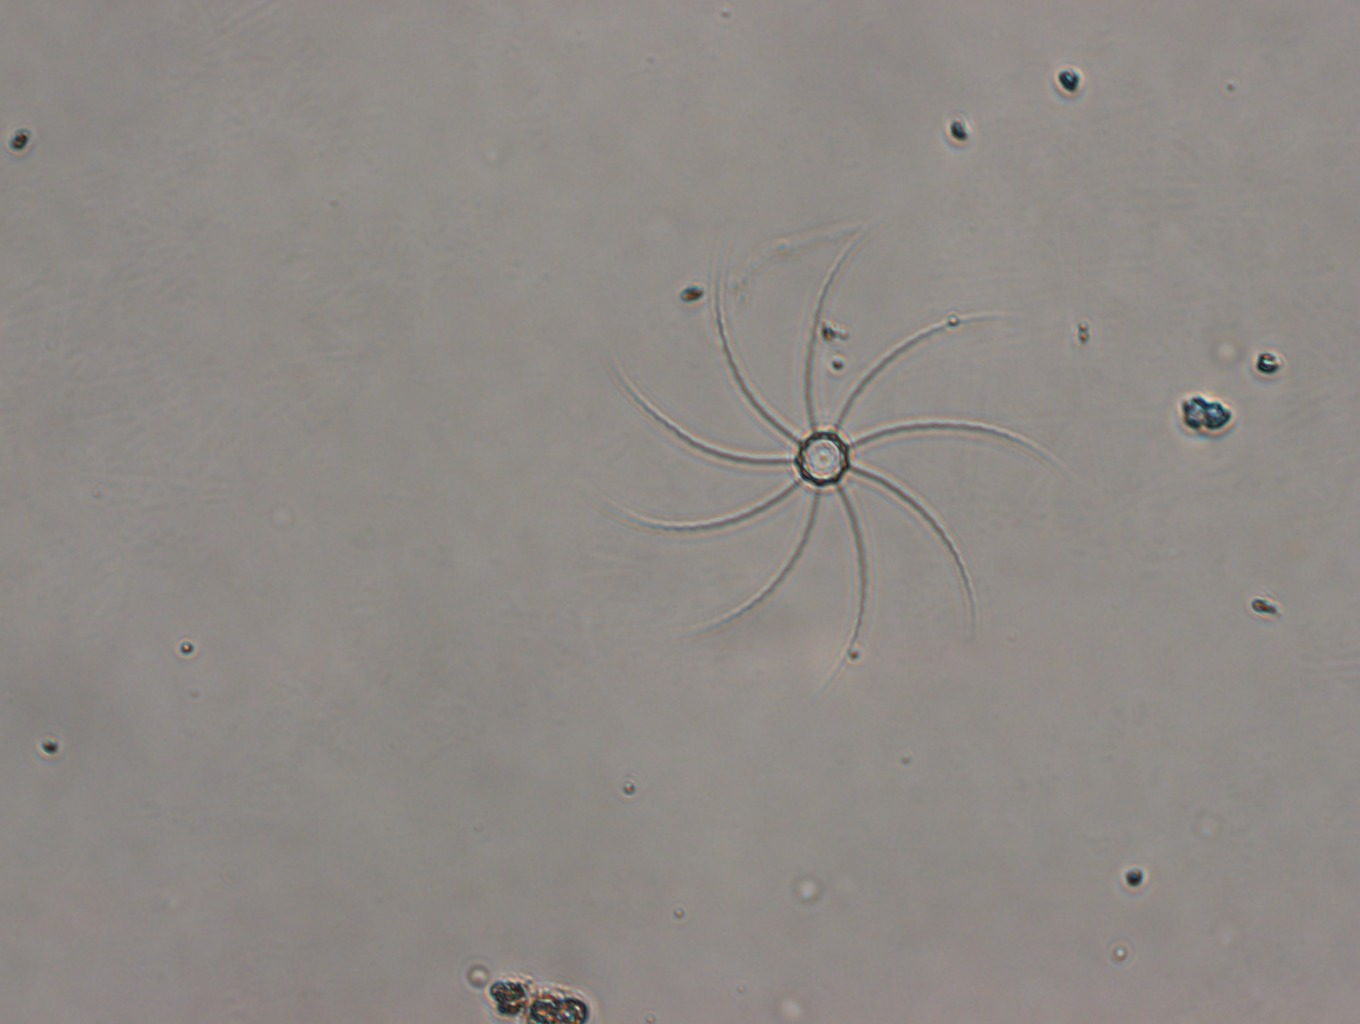bacteriastrum: (583, 225, 1069, 692)
